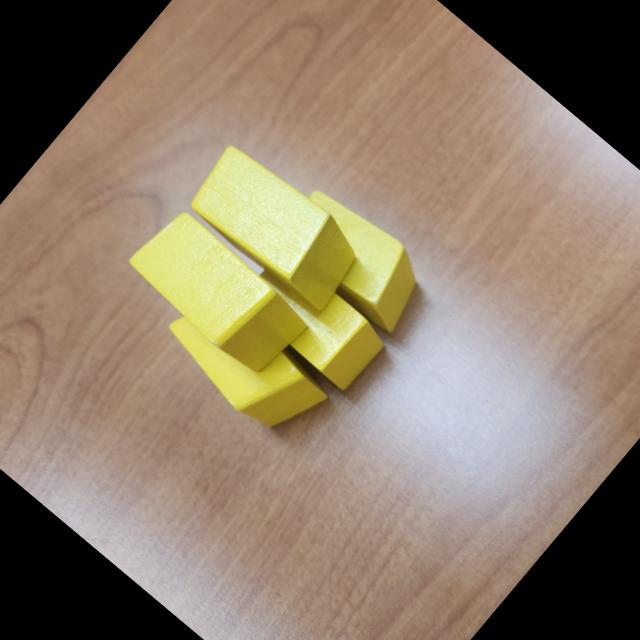yellow: (117, 198, 316, 385), (150, 268, 347, 455), (180, 134, 376, 318), (269, 176, 442, 338), (235, 246, 392, 394)
